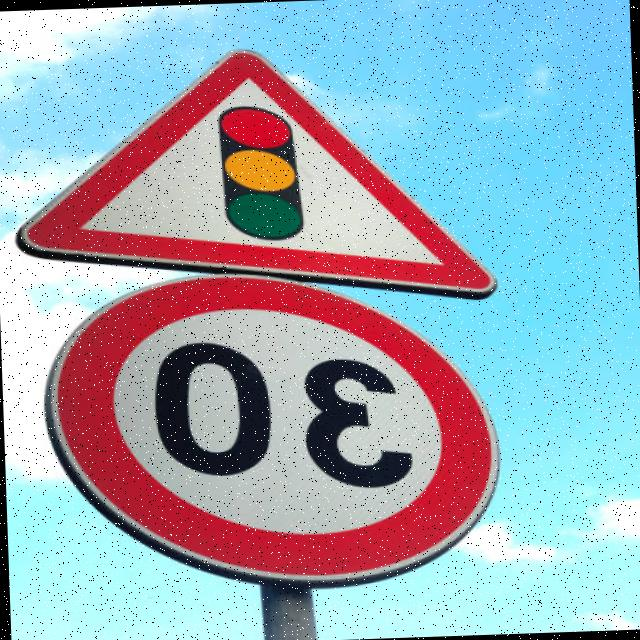speed_limit_20: (11, 49, 495, 288)
